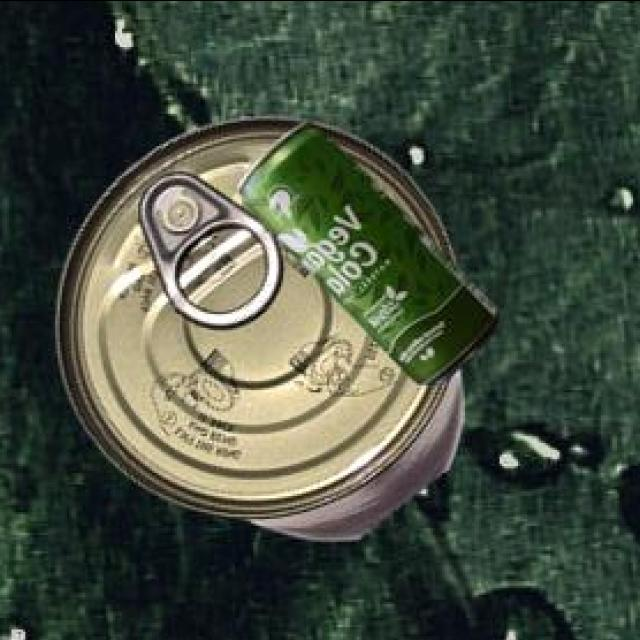logam: (52, 112, 459, 535), (234, 116, 496, 381)
